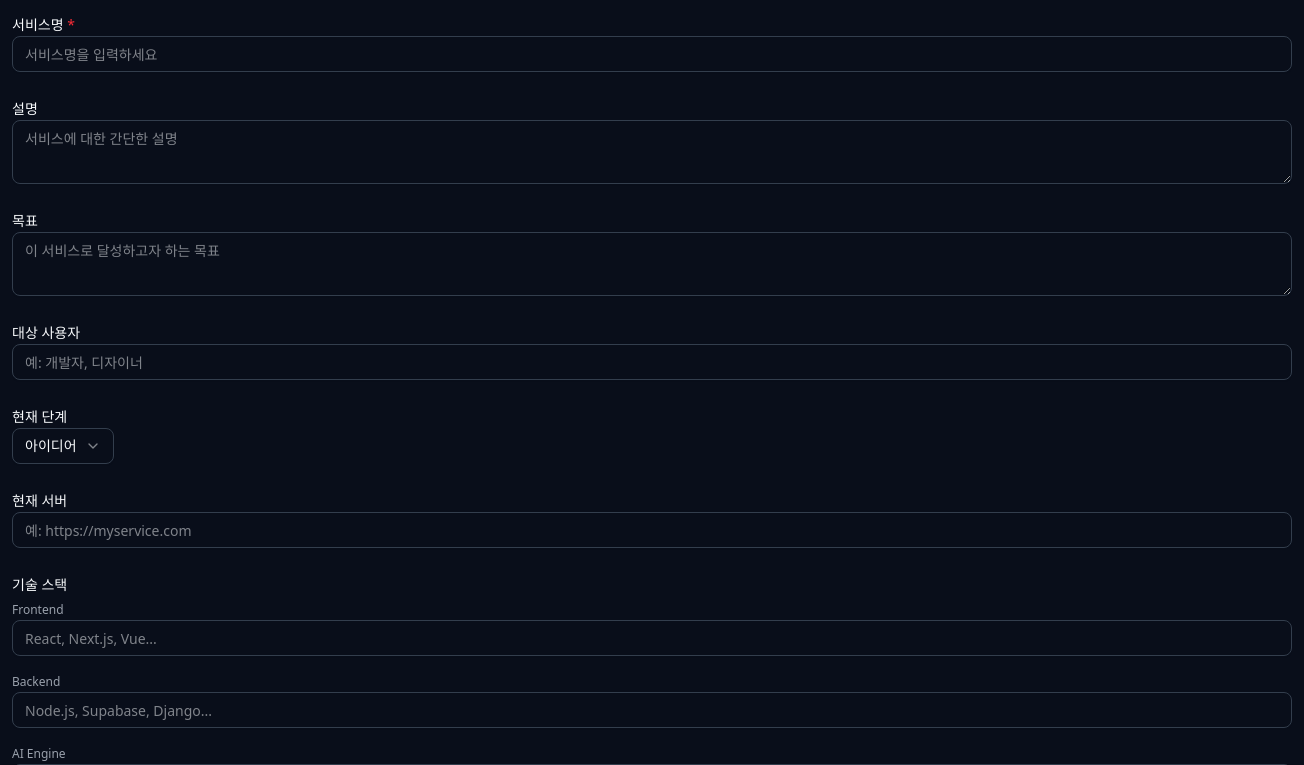
Test case: ServiceForm › 기술 스택 카테고리별 태그 입력 › Backend 카테고리에 엔터키로 태그를 추가할 수 있다
Type "Supabase" into the field labelled "Backend" at (652, 710), box [12,692,1292,728]
Then press Enter
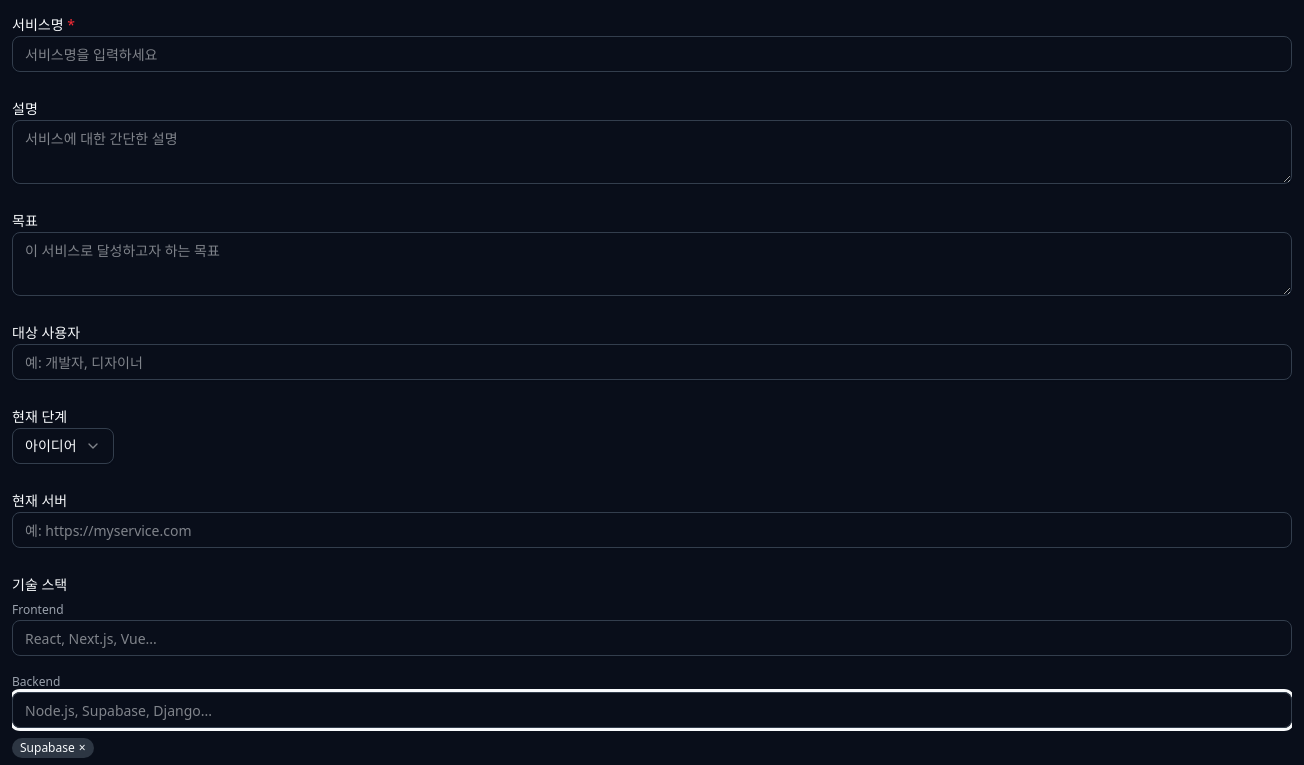
expect the text "Supabase" is shown: met, box [20,740,75,756]
